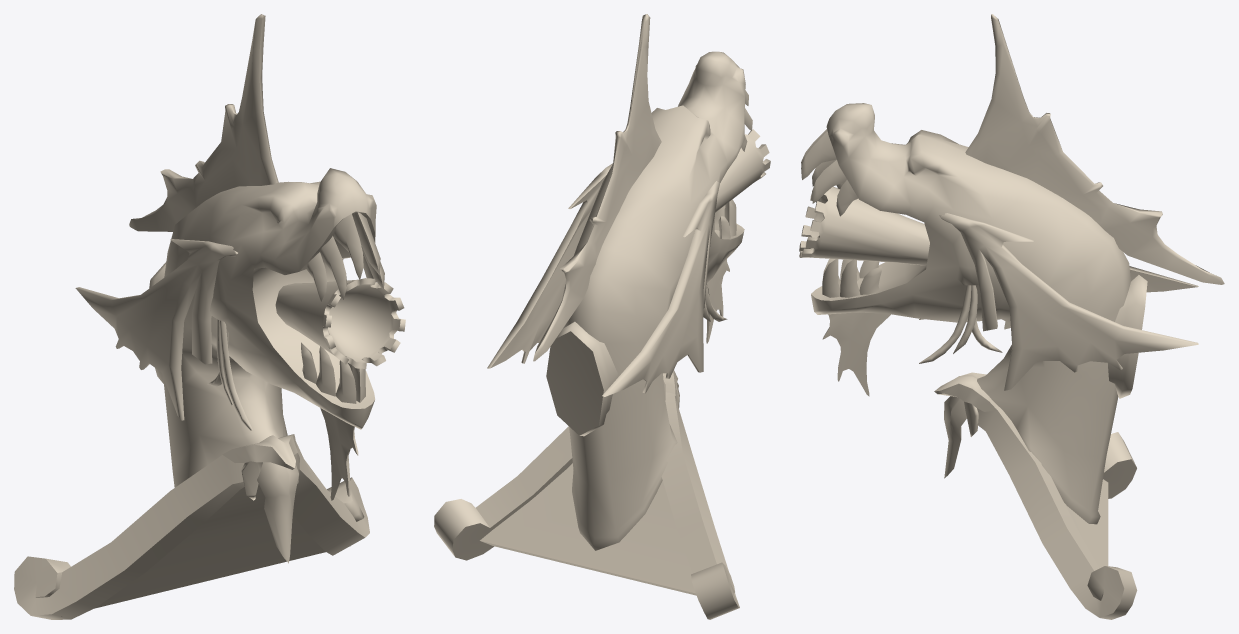
File: weapon-slice-bronzeweapons.glb
3 renders of one model, left to right at view 1: azimuth 30°, elevation 25°; view 2: azimuth 150°, elevation 25°; view 3: azimuth 270°, elevation 25°, orthographic. The views are drawn at different scales.
Bounding box in the file's own units: 1.49 × 2.53 × 1.79.
